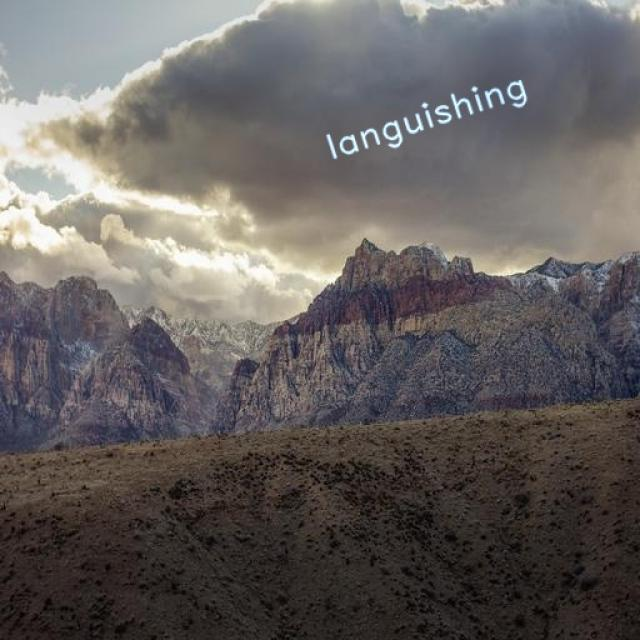watermark: (322, 68, 528, 165)
